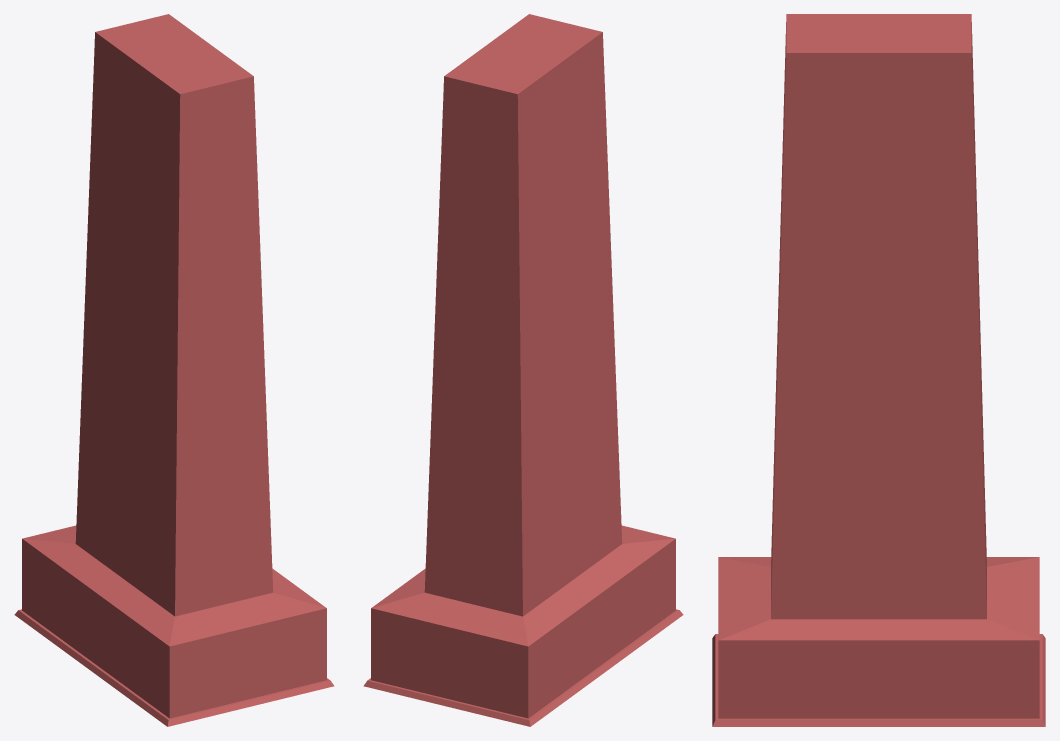
File: bridge6_environment.obj
3 renders of one model, left to right at view 1: azimuth 30°, elevation 25°; view 2: azimuth 150°, elevation 25°; view 3: azimuth 270°, elevation 25°, orthographic. The views are drawn at different scales.
Parts seen in each view (by area): view 1: mesh_1, mesh_2, mesh_0, mesh_3; view 2: mesh_1, mesh_2, mesh_0, mesh_3; view 3: mesh_1, mesh_2, mesh_0, mesh_3.
Part boxes in pixels (<box>): mesh_1: <box>75,58,273,616</box>; mesh_2: <box>22,525,326,718</box>; mesh_0: <box>94,14,254,120</box>; mesh_3: <box>14,609,334,726</box>; mesh_1: <box>424,58,622,616</box>; mesh_2: <box>371,525,675,718</box>; mesh_0: <box>443,14,603,120</box>; mesh_3: <box>363,609,683,726</box>; mesh_1: <box>771,46,986,619</box>; mesh_2: <box>718,557,1039,718</box>; mesh_0: <box>785,14,972,81</box>; mesh_3: <box>712,634,1045,726</box>.
Size of the model in its own units: 3.4 by 11.6 by 5.4.
